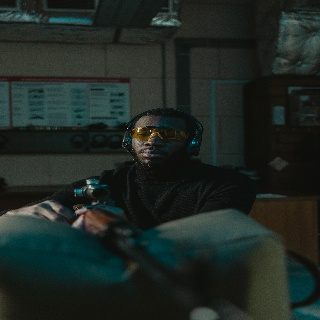rifle: (73, 176, 254, 320)
